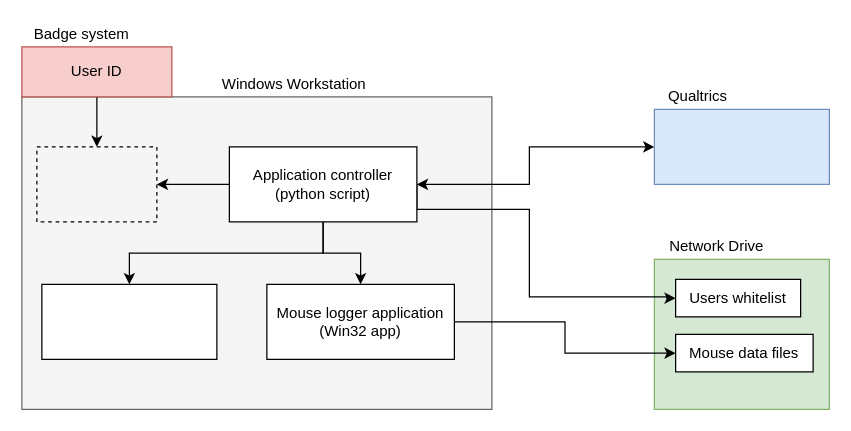
The diagram is 851 pixels wide and 431 high, and some of its shapes have lost their labels. The shapes that lost their labels are listed below. From the top down, each one's centre as x and y in pixels, then its label:
At pixel 741 146: "Surveys".
At pixel 96 184: "Environment variable (User ID)".
At pixel 129 321: "Notification application (Win32 app)".
